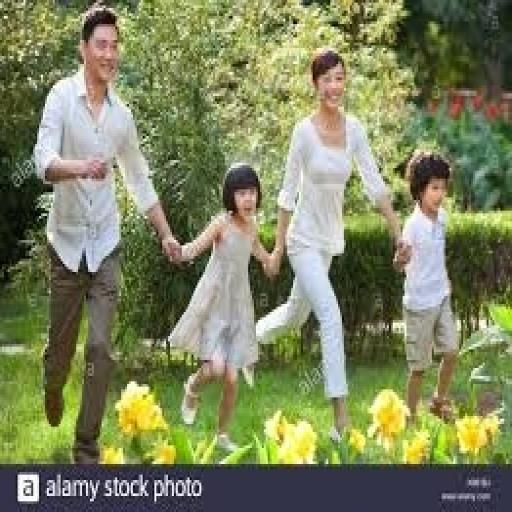running: (31, 3, 184, 464), (246, 46, 406, 446), (160, 160, 280, 453), (391, 146, 463, 426)
